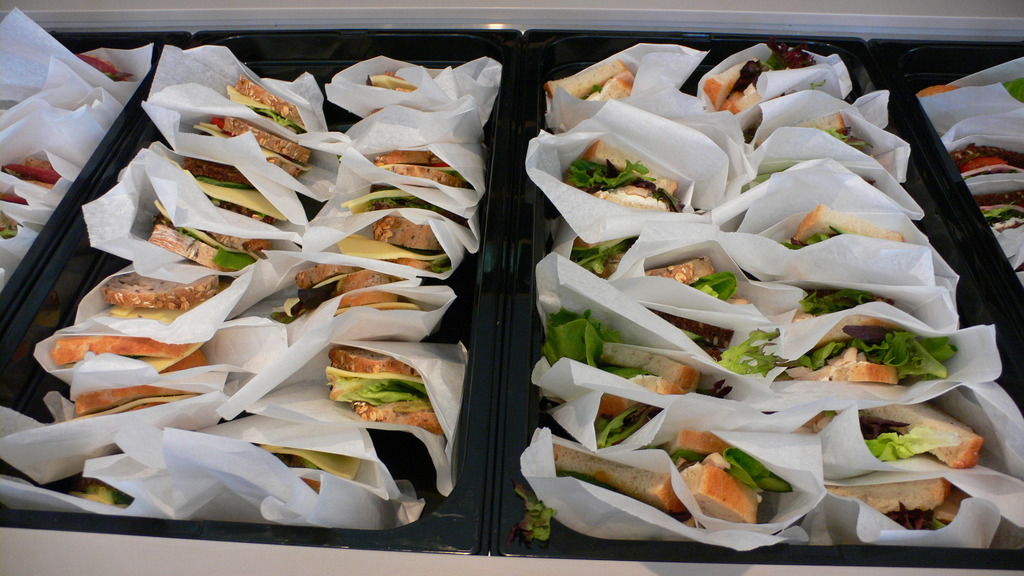sandwich: (0, 42, 1023, 545)
